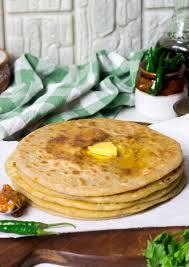paratha: (2, 125, 186, 217)
